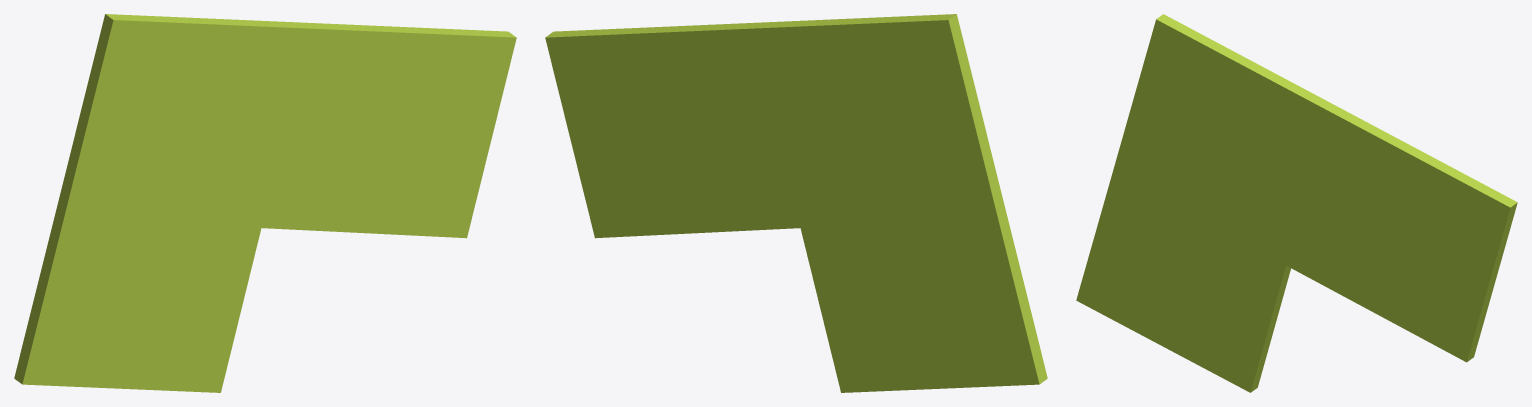
3 renders of one model, left to right at view 1: azimuth 30°, elevation 25°; view 2: azimuth 150°, elevation 25°; view 3: azimuth 330°, elevation 25°, orthographic. The views are drawn at different scales.
Parts seen in each view (by area): view 1: osm-way27917482-F-1; view 2: osm-way27917482-F-1; view 3: osm-way27917482-F-1.
Boxes of the visible parts, x1=… form: osm-way27917482-F-1: x1=14, y1=14, x2=516, y2=392; osm-way27917482-F-1: x1=545, y1=14, x2=1047, y2=392; osm-way27917482-F-1: x1=1076, y1=14, x2=1517, y2=392.
Bounding box in the file's own units: 5.16 × 3.98 × 0.15.
